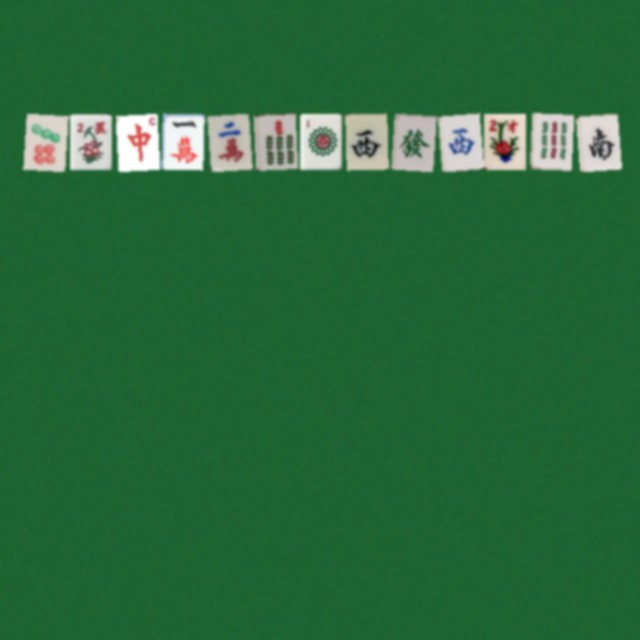tile: (23, 113, 65, 169), (69, 113, 111, 169), (115, 113, 157, 169), (161, 113, 203, 169), (207, 113, 249, 169), (253, 113, 295, 169), (299, 113, 341, 169), (345, 113, 387, 169), (391, 113, 433, 169), (437, 113, 479, 169), (483, 113, 525, 169), (529, 113, 571, 169), (575, 113, 617, 169)
